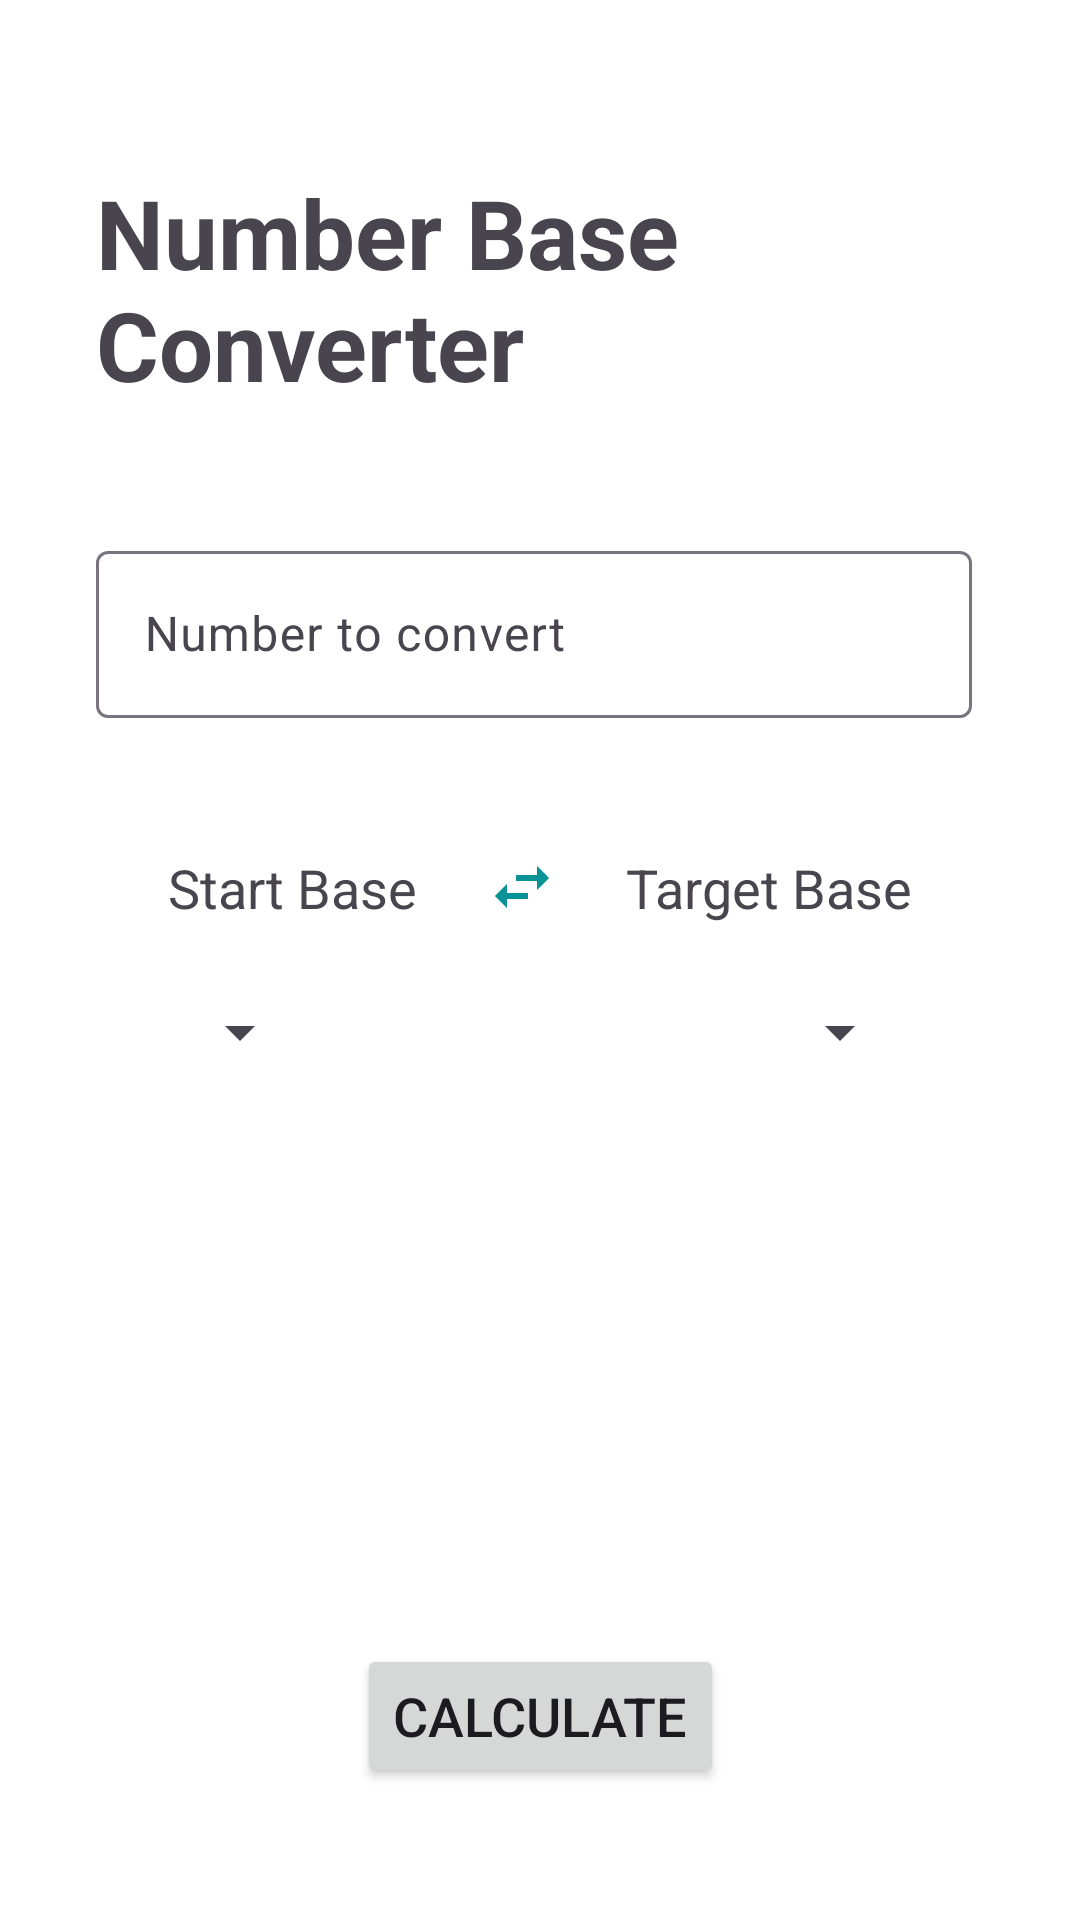

Screen size 1080×1920. Icon name, then its box in pixels as (left=x1, top=y1, right=x2, bottom=y2):
swap: (left=495, top=866, right=549, bottom=908)
